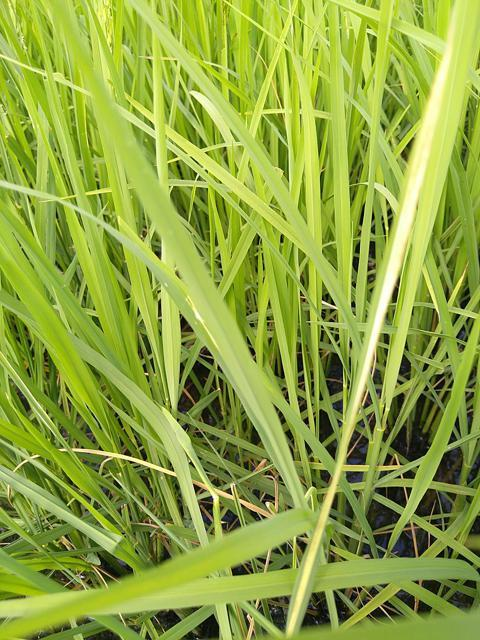Leaf Blight: (344, 0, 479, 430)
